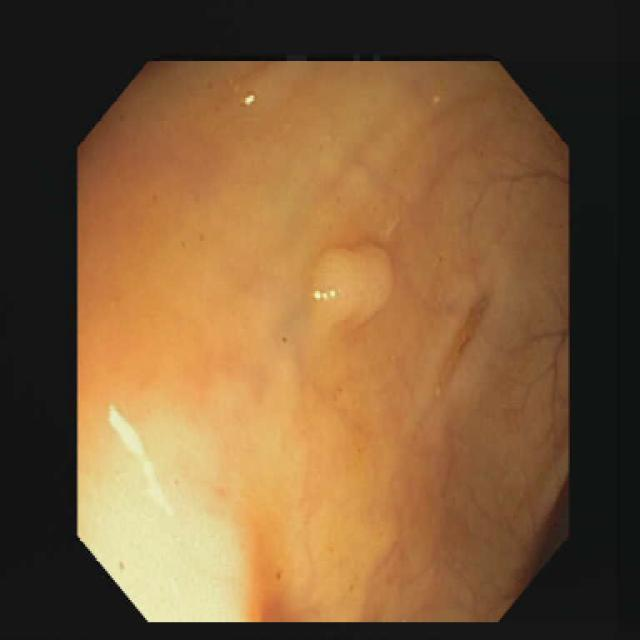tumor: (312, 247, 390, 333)
